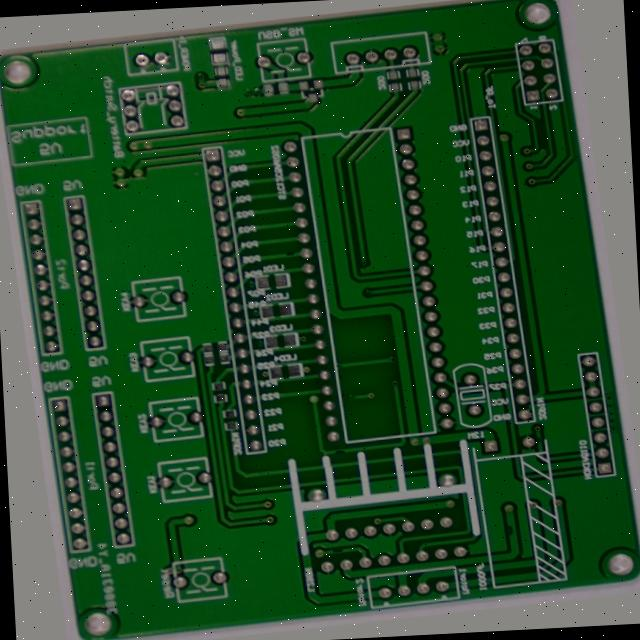mouse_bite: (497, 540, 515, 560), (318, 452, 338, 467), (305, 556, 328, 569), (537, 449, 554, 466), (285, 240, 302, 254)
